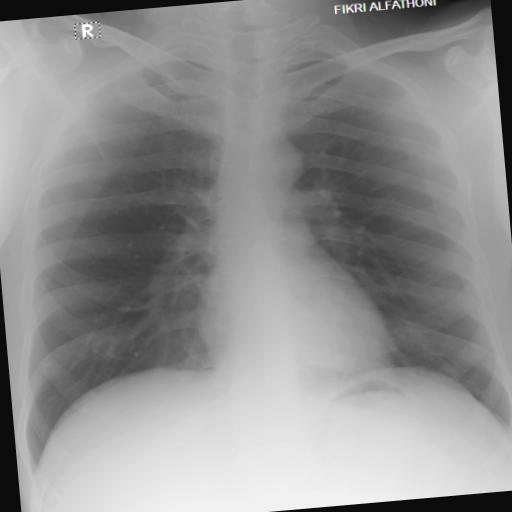normal: (0, 10, 512, 489)
